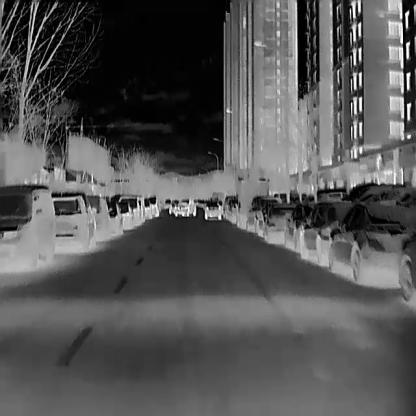car: (328, 202, 414, 280), (1, 183, 56, 266), (294, 200, 349, 260), (52, 190, 96, 251), (262, 203, 296, 241), (87, 192, 108, 240), (174, 197, 196, 215), (204, 203, 220, 219), (164, 197, 170, 209)
